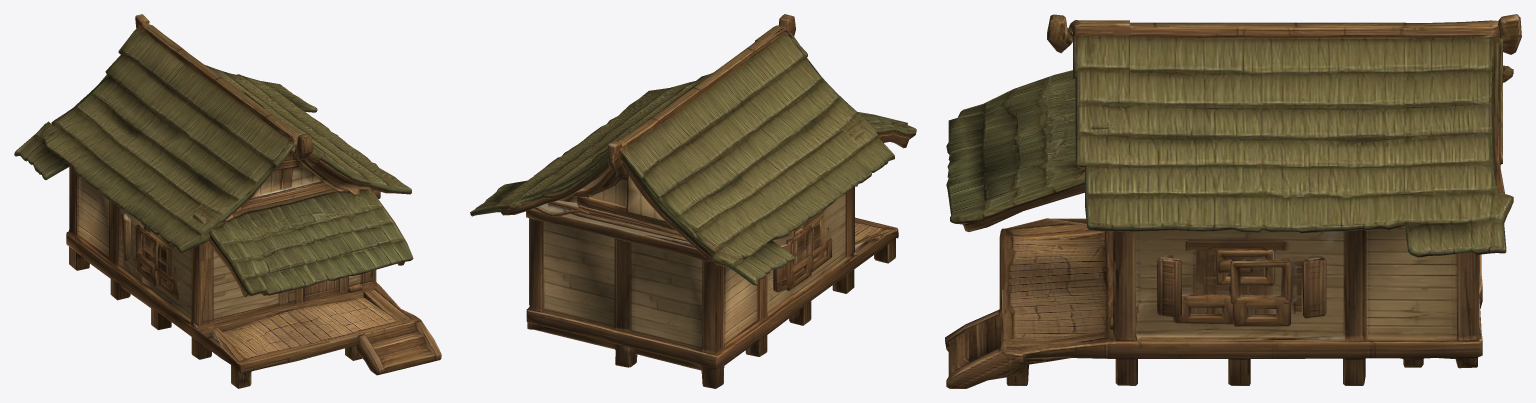
3 renders of one model, left to right at view 1: azimuth 30°, elevation 25°; view 2: azimuth 150°, elevation 25°; view 3: azimuth 270°, elevation 25°, orthographic. The views are drawn at different scales.
Parts seen in each view (by area): view 1: obj1; view 2: obj1; view 3: obj1.
Part boxes in pixels (x1,y1,x2,y2): obj1: (14, 14, 441, 388); obj1: (470, 14, 916, 388); obj1: (945, 14, 1521, 388).
Bounding box in the file's own units: 146 × 112 × 191.
1 material, 1 textured.
